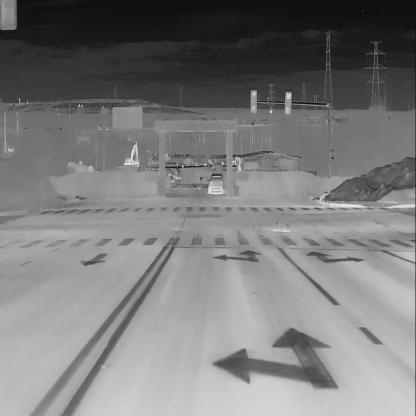car: (207, 171, 225, 194)
